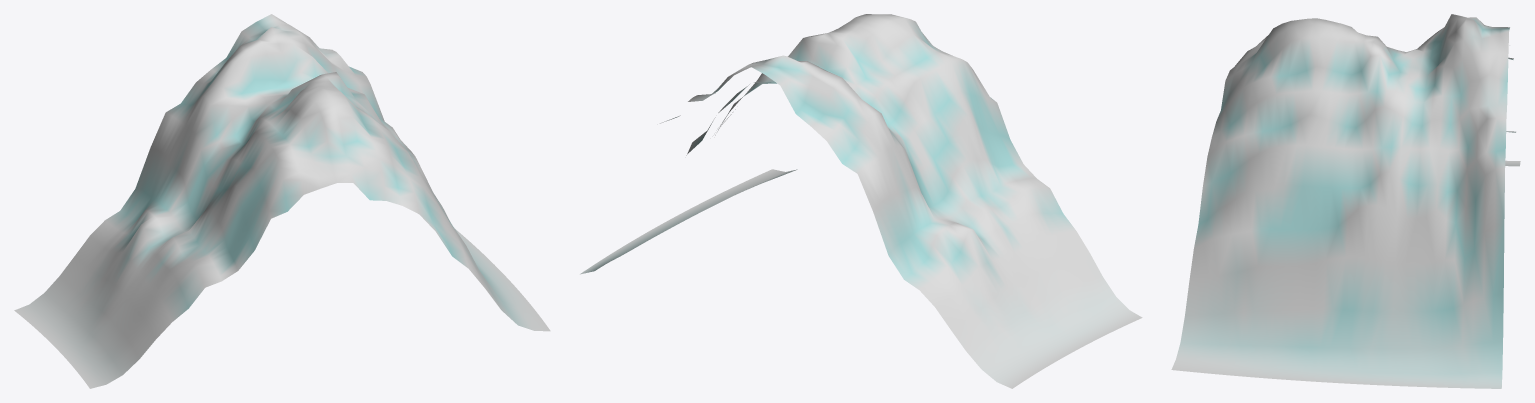
File: middle_18.glb
3 views of the same model, side by side, from view 1: azimuth 30°, elevation 25°; view 2: azimuth 150°, elevation 25°; view 3: azimuth 270°, elevation 25° (orthographic). The views are drawn at different scales.
Parts seen in each view (by area): view 1: Mountain; view 2: Mountain; view 3: Mountain.
Part boxes in pixels (x1,y1,x2,y2): Mountain: [14, 14, 550, 388]; Mountain: [580, 14, 1142, 388]; Mountain: [1171, 14, 1520, 388].
Size of the model in its own units: 633 by 332 by 388.
